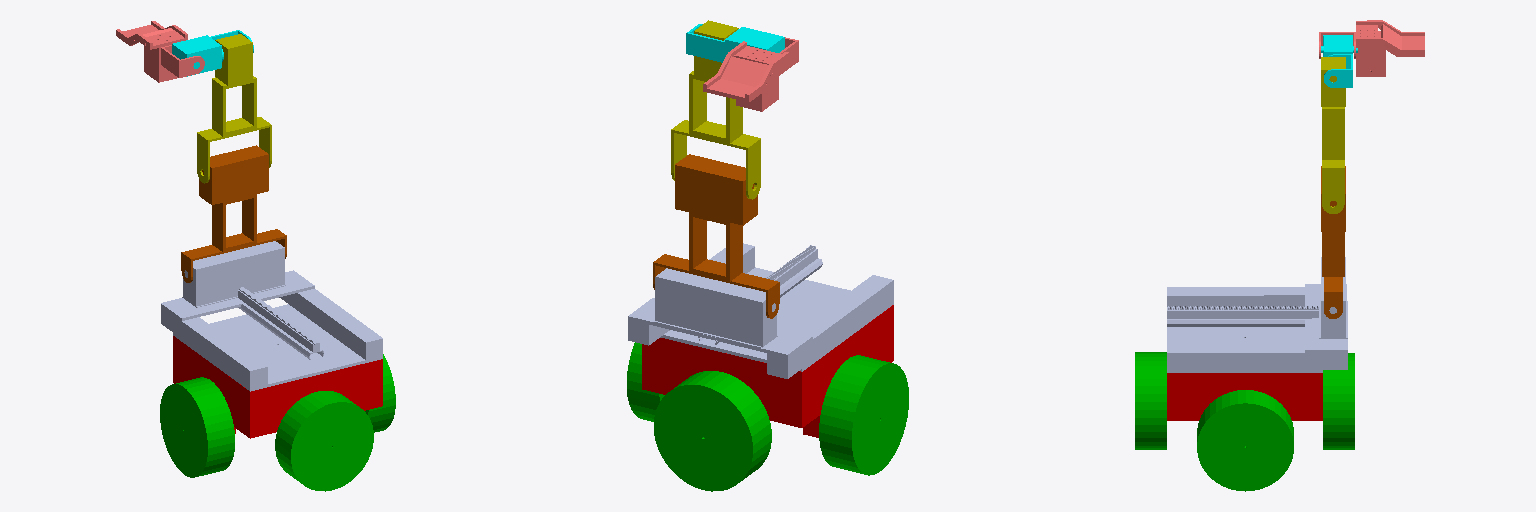
URDF robot description (larc_robot_description):
<?xml version="1.0" encoding="utf-8"?>

<robot name="larc_robot_description">

  <link name="base_link">
    <inertial>
      <origin
        xyz="-0.0007009 0.001235 0.10504"
        rpy="0 0 0" />
      <mass
        value="2.889" />
      <inertia
        ixx="0.01011"
        ixy="1.2009E-09"
        ixz="6.926E-10"
        iyy="0.010102"
        iyz="1.4387E-09"
        izz="0.018102" />
    </inertial>
    <visual>
      <origin
        xyz="0 0 0"
        rpy="0 0 0" />
      <geometry>
        <mesh
          filename="package://larc_robot_description/meshes/base_link.STL" />
      </geometry>
      <material
        name="">
        <color
          rgba="0.90588 0 0 1" />
      </material>
    </visual>
    <collision>
      <origin
        xyz="0 0 0"
        rpy="0 0 0" />
      <geometry>
        <mesh
          filename="package://larc_robot_description/meshes/base_link.STL" />
      </geometry>
    </collision>
  </link>

  <link name="link_wheel_1">
    <inertial>
      <origin
        xyz="0.020161 -0.00045762 -0.0013655"
        rpy="0 0 0" />
      <mass
        value="0.50286" />
      <inertia
        ixx="0.00098271"
        ixy="1.166E-17"
        ixz="-7.3594E-18"
        iyy="0.00056179"
        iyz="-4.1613E-20"
        izz="0.00056179" />
    </inertial>
    <visual>
      <origin
        xyz="0 0 0"
        rpy="0 0 0" />
      <geometry>
        <mesh
          filename="package://larc_robot_description/meshes/link_wheel_1.STL" />
      </geometry>
      <material
        name="">
        <color
          rgba="0 0.75294 0 1" />
      </material>
    </visual>
    <collision>
      <origin
        xyz="0 0 0"
        rpy="0 0 0" />
      <geometry>
        <mesh
          filename="package://larc_robot_description/meshes/link_wheel_1.STL" />
      </geometry>
    </collision>
  </link>
  <joint name="wheel1" type="continuous">
    <origin
      xyz="-0.14101 0.00042922 0.056131"
      rpy="0 0 0" />
    <parent
      link="base_link" />
    <child
      link="link_wheel_1" />
    <axis
      xyz="1 0 0" />
    <safety_controller
      k_velocity="0" />
  </joint>

  <link name="link_wheel_2">
    <inertial>
      <origin
        xyz="-0.000339407879815295 0.02004238131964 -0.00136551806008206"
        rpy="0 0 0" />
      <mass
        value="0.502855886504197" />
      <inertia
        ixx="0.000561794786868209"
        ixy="7.51895569517464E-20"
        ixz="-2.59772159407109E-34"
        iyy="0.000982706116200826"
        iyz="-1.45822039942642E-18"
        izz="0.000561794786868209" />
    </inertial>
    <visual>
      <origin
        xyz="0 0 0"
        rpy="0 0 0" />
      <geometry>
        <mesh
          filename="package://larc_robot_description/meshes/link_wheel_2.STL" />
      </geometry>
      <material
        name="">
        <color
          rgba="0 0.752941176470588 0 1" />
      </material>
    </visual>
    <collision>
      <origin
        xyz="0 0 0"
        rpy="0 0 0" />
      <geometry>
        <mesh
          filename="package://larc_robot_description/meshes/link_wheel_2.STL" />
      </geometry>
    </collision>
  </link>
  <joint name="wheel2" type="continuous">
    <origin
      xyz="-6.8027E-05 -0.1411 0.057612"
      rpy="0 0 0" />
    <parent
      link="base_link" />
    <child
      link="link_wheel_2" />
    <axis
      xyz="0 1 0" />
    <safety_controller
      k_velocity="0" />
  </joint>

  <link name="link_wheel_3">
    <inertial>
      <origin
        xyz="0.0205 2.3384994028014E-14 6.93889390390723E-17"
        rpy="0 0 0" />
      <mass
        value="0.502855886504196" />
      <inertia
        ixx="0.000982706116200826"
        ixy="-7.51895569517464E-20"
        ixz="-1.51916017433259E-18"
        iyy="0.000561794786868209"
        iyz="-1.22627570677781E-34"
        izz="0.000561794786868209" />
    </inertial>
    <visual>
      <origin
        xyz="0 0 0"
        rpy="0 0 0" />
      <geometry>
        <mesh
          filename="package://larc_robot_description/meshes/link_wheel_3.STL" />
      </geometry>
      <material
        name="">
        <color
          rgba="0 0.752941176470588 0 1" />
      </material>
    </visual>
    <collision>
      <origin
        xyz="0 0 0"
        rpy="0 0 0" />
      <geometry>
        <mesh
          filename="package://larc_robot_description/meshes/link_wheel_3.STL" />
      </geometry>
    </collision>
  </link>
  <joint name="wheel3" type="continuous">
    <origin
      xyz="0.09965 0.0003109 0.0563"
      rpy="0 0 0" />
    <parent
      link="base_link" />
    <child
      link="link_wheel_3" />
    <axis
      xyz="1 0 0" />
    <safety_controller
      k_velocity="0" />
  </joint>

  <link name="link_wheel_4">
    <inertial>
      <origin
        xyz="-1.12941340307815E-14 0.020500000000011 -2.98580604685128E-14"
        rpy="0 0 0" />
      <mass
        value="0.502855886504197" />
      <inertia
        ixx="0.000561794786868209"
        ixy="9.11607153056694E-37"
        ixz="-5.89348963826831E-37"
        iyy="0.000982706116200826"
        iyz="-1.45822039942642E-18"
        izz="0.000561794786868209" />
    </inertial>
    <visual>
      <origin
        xyz="0 0 0"
        rpy="0 0 0" />
      <geometry>
        <mesh
          filename="package://larc_robot_description/meshes/link_wheel_4.STL" />
      </geometry>
      <material
        name="">
        <color
          rgba="0 0.752941176470588 0 1" />
      </material>
    </visual>
    <collision>
      <origin
        xyz="0 0 0"
        rpy="0 0 0" />
      <geometry>
        <mesh
          filename="package://larc_robot_description/meshes/link_wheel_4.STL" />
      </geometry>
    </collision>
  </link>
  <joint name="wheel4" type="continuous">
    <origin
      xyz="-0.00038217 0.099439 0.056246"
      rpy="0 0 0" />
    <parent
      link="base_link" />
    <child
      link="link_wheel_4" />
    <axis
      xyz="0 1 0" />
    <safety_controller
      k_velocity="0" />
  </joint>

  <link name="link_rotating_base">
    <inertial>
      <origin
        xyz="2.59666420310278E-17 -3.25260651745651E-18 -0.00199999999999997"
        rpy="0 0 0" />
      <mass
        value="0.159971725666118" />
      <inertia
        ixx="0.000533546613063244"
        ixy="5.37667397666411E-21"
        ixz="-4.03058545088596E-21"
        iyy="0.000533546613063244"
        iyz="-8.21553363704842E-21"
        izz="0.00106666663485805" />
    </inertial>
    <visual>
      <origin
        xyz="0 0 0"
        rpy="0 0 0" />
      <geometry>
        <mesh
          filename="package://larc_robot_description/meshes/link_rotating_base.STL" />
      </geometry>
      <material
        name="">
        <color
          rgba="0.792156862745098 0.819607843137255 0.933333333333333 1" />
      </material>
    </visual>
    <collision>
      <origin
        xyz="0 0 0"
        rpy="0 0 0" />
      <geometry>
        <mesh
          filename="package://larc_robot_description/meshes/link_rotating_base.STL" />
      </geometry>
    </collision>
  </link>
  <joint name="rotating_base" type="revolute">
    <origin
      xyz="-0.0003502 -0.00056066 0.14621"
      rpy="0 0 0" />
    <parent
      link="base_link" />
    <child
      link="link_rotating_base" />
    <axis
      xyz="0 0 1" />
    <limit
      lower="-3.14"
      upper="3.14"
      effort="3.1"
      velocity="7" />
    <safety_controller
      k_velocity="0" />
  </joint>

  <link name="link_zipper">
    <inertial>
      <origin
        xyz="0.0997852492160236 -0.0418712470067769 0.00454384995334384"
        rpy="0 0 0" />
      <mass
        value="0.618526009233702" />
      <inertia
        ixx="0.00197333990930959"
        ixy="4.10075659751431E-06"
        ixz="2.16435070120201E-07"
        iyy="0.000606064173307816"
        iyz="-7.21645078614296E-05"
        izz="0.00240018329433446" />
    </inertial>
    <visual>
      <origin
        xyz="0 0 0"
        rpy="0 0 0" />
      <geometry>
        <mesh
          filename="package://larc_robot_description/meshes/link_zipper.STL" />
      </geometry>
      <material
        name="">
        <color
          rgba="0.792156862745098 0.819607843137255 0.933333333333333 1" />
      </material>
    </visual>
    <collision>
      <origin
        xyz="0 0 0"
        rpy="0 0 0" />
      <geometry>
        <mesh
          filename="package://larc_robot_description/meshes/link_zipper.STL" />
      </geometry>
    </collision>
  </link>
  <joint name="zipper" type="prismatic">
    <origin
      xyz="-0.09996 0.10016 0.026666"
      rpy="0 0 0" />
    <parent
      link="link_rotating_base" />
    <child
      link="link_zipper" />
    <axis
      xyz="0 1 0" />
    <limit
      lower="0.0"
      upper="0.16"
      effort="3.1"
      velocity="7" />
    <safety_controller
      k_velocity="0" />
  </joint>

  <link name="link_shoulder">
    <inertial>
      <origin
        xyz="5.84384970969687E-17 2.77555756156289E-17 0.105726024491764"
        rpy="0 0 0" />
      <mass
        value="0.194191541923691" />
      <inertia
        ixx="0.000301442784330269"
        ixy="-2.11758236813575E-20"
        ixz="-3.39724482279049E-20"
        iyy="0.000429950110550485"
        iyz="-4.34462320805404E-20"
        izz="0.000159590805283899" />
    </inertial>
    <visual>
      <origin
        xyz="0 0 0"
        rpy="0 0 0" />
      <geometry>
        <mesh
          filename="package://larc_robot_description/meshes/link_shoulder.STL" />
      </geometry>
      <material
        name="">
        <color
          rgba="0.729411764705882 0.356862745098039 0.0235294117647059 1" />
      </material>
    </visual>
    <collision>
      <origin
        xyz="0 0 0"
        rpy="0 0 0" />
      <geometry>
        <mesh
          filename="package://larc_robot_description/meshes/link_shoulder.STL" />
      </geometry>
    </collision>
  </link>
  <joint name="shoulder" type="revolute">
    <origin
      xyz="0.09962 0.013292 0.045134"
      rpy="0 0 0.0029992" />
    <parent
      link="link_zipper" />
    <child
      link="link_shoulder" />
    <axis
      xyz="1 0 0" />
    <limit
      lower="-2.6"
      upper="2.6"
      effort="3.1"
      velocity="7" />
    <safety_controller
      k_velocity="0" />
  </joint>

  <link name="link_elbow">
    <inertial>
      <origin
        xyz="-0.00150000000000004 6.93889390390723E-17 0.114437734633691"
        rpy="0 0 0" />
      <mass
        value="0.116156099382592" />
      <inertia
        ixx="0.000282205692339256"
        ixy="2.75285707857648E-21"
        ixz="1.06157121423655E-19"
        iyy="0.000321992012176196"
        iyz="3.41885999911415E-20"
        izz="5.79537330340457E-05" />
    </inertial>
    <visual>
      <origin
        xyz="0 0 0"
        rpy="0 0 0" />
      <geometry>
        <mesh
          filename="package://larc_robot_description/meshes/link_elbow.STL" />
      </geometry>
      <material
        name="">
        <color
          rgba="0.752941176470588 0.752941176470588 0 1" />
      </material>
    </visual>
    <collision>
      <origin
        xyz="0 0 0"
        rpy="0 0 0" />
      <geometry>
        <mesh
          filename="package://larc_robot_description/meshes/link_elbow.STL" />
      </geometry>
    </collision>
  </link>
  <joint name="elbow" type="revolute">
    <origin
      xyz="0.0015 0 0.1395"
      rpy="0 0 0" />
    <parent
      link="link_shoulder" />
    <child
      link="link_elbow" />
    <axis
      xyz="1 0 0" />
    <limit
      lower="-2.6"
      upper="2.6"
      effort="3.1"
      velocity="7" />
    <safety_controller
      k_velocity="0" />
  </joint>

  <link name="link_wrist_x">
    <inertial>
      <origin
        xyz="0.0462179712457425 -3.33066907387547E-16 0.00757600236130149"
        rpy="0 0 0" />
      <mass
        value="0.0734418604544087" />
      <inertia
        ixx="1.56551731707426E-05"
        ixy="-3.00186718951297E-21"
        ixz="2.96747066068271E-06"
        iyy="4.64159836533294E-05"
        iyz="-8.8758056104872E-22"
        izz="4.26152498612371E-05" />
    </inertial>
    <visual>
      <origin
        xyz="0 0 0"
        rpy="0 0 0" />
      <geometry>
        <mesh
          filename="package://larc_robot_description/meshes/link_wrist_x.STL" />
      </geometry>
      <material
        name="">
        <color
          rgba="0 1 1 1" />
      </material>
    </visual>
    <collision>
      <origin
        xyz="0 0 0"
        rpy="0 0 0" />
      <geometry>
        <mesh
          filename="package://larc_robot_description/meshes/link_wrist_x.STL" />
      </geometry>
    </collision>
  </link>
  <joint name="wrist_x" type="revolute">
    <origin
      xyz="-0.0019382 6.8796E-05 0.1655"
      rpy="1.5708 0 3.1416" />
    <parent
      link="link_elbow" />
    <child
      link="link_wrist_x" />
    <axis
      xyz="1 0 0" />
    <limit
      lower="-2.6"
      upper="2.6"
      effort="3.1"
      velocity="7" />
    <safety_controller
      k_velocity="0" />
  </joint>

  <link name="link_wrist_y">
    <inertial>
      <origin
        xyz="-0.0131844541976823 0.00564526697642653 0.0457821049582453"
        rpy="0 0 0" />
      <mass
        value="0.0964347160248947" />
      <inertia
        ixx="2.89008345555284E-05"
        ixy="-9.30583763123157E-09"
        ixz="-7.6152167469258E-09"
        iyy="2.64426644877419E-05"
        iyz="-1.22309375219652E-06"
        izz="2.48637691086818E-05" />
    </inertial>
    <visual>
      <origin
        xyz="0 0 0"
        rpy="0 0 0" />
      <geometry>
        <mesh
          filename="package://larc_robot_description/meshes/link_wrist_y.STL" />
      </geometry>
      <material
        name="">
        <color
          rgba="1 0.501960784313725 0.501960784313725 1" />
      </material>
    </visual>
    <collision>
      <origin
        xyz="0 0 0"
        rpy="0 0 0" />
      <geometry>
        <mesh
          filename="package://larc_robot_description/meshes/link_wrist_y.STL" />
      </geometry>
    </collision>
  </link>
  <joint name="wrist_y" type="revolute">
    <origin
      xyz="0.066562 0 0.0066812"
      rpy="0 0 -3.1416" />
    <parent
      link="link_wrist_x" />
    <child
      link="link_wrist_y" />
    <axis
      xyz="0 0 1" />
    <limit
      lower="-2.6"
      upper="2.6"
      effort="3.1"
      velocity="7" />
    <safety_controller
      k_velocity="0" />
  </joint>

</robot>

--- Render facts (derived) ---
3 views of the same robot in one strip: view 1: azimuth 30°, elevation 25°; view 2: azimuth 150°, elevation 25°; view 3: azimuth 270°, elevation 25° (orthographic).
Model larc_robot_description with 11 links and 10 joints (5 revolute, 4 continuous, 1 prismatic), rooted at base_link, posed all joints at 0.
Visible links, largest first — view 1: link_zipper, link_wheel_2, base_link, link_wheel_1, link_shoulder, link_rotating_base, link_elbow, link_wrist_y, link_wrist_x, link_wheel_3; view 2: link_zipper, link_wheel_4, base_link, link_wheel_1, link_shoulder, link_elbow, link_wrist_y, link_rotating_base, link_wrist_x, link_wheel_3; view 3: link_zipper, link_wheel_3, base_link, link_elbow, link_wheel_2, link_wrist_y, link_rotating_base, link_wheel_4, link_shoulder, link_wrist_x.
Link boxes in pixels (box(x1,y1,x2,y2)): link_zipper: box(161, 241, 382, 388); link_wheel_2: box(275, 391, 373, 491); base_link: box(173, 336, 382, 438); link_wheel_1: box(160, 377, 234, 477); link_shoulder: box(181, 145, 286, 282); link_rotating_base: box(173, 304, 382, 391); link_elbow: box(197, 34, 271, 183); link_wrist_y: box(116, 21, 204, 82); link_wrist_x: box(172, 30, 253, 76); link_wheel_3: box(365, 354, 395, 432); link_zipper: box(628, 243, 893, 378); link_wheel_4: box(654, 371, 771, 491); base_link: box(642, 305, 893, 437); link_wheel_1: box(819, 355, 908, 475); link_shoulder: box(653, 154, 779, 318); link_elbow: box(671, 20, 760, 199); link_wrist_y: box(703, 37, 798, 111); link_rotating_base: box(660, 267, 893, 371); link_wrist_x: box(686, 24, 784, 62); link_wheel_3: box(627, 342, 664, 421); link_zipper: box(1167, 257, 1347, 370); link_wheel_3: box(1197, 390, 1293, 491); base_link: box(1167, 373, 1322, 420); link_elbow: box(1321, 57, 1345, 213); link_wheel_2: box(1135, 352, 1166, 449); link_wrist_y: box(1319, 20, 1424, 76); link_rotating_base: box(1167, 327, 1322, 372); link_wheel_4: box(1323, 353, 1354, 449); link_shoulder: box(1321, 166, 1345, 318); link_wrist_x: box(1321, 35, 1357, 87).
Size in the robot's own frame: 0.282 by 0.3722 by 0.5523 metres.
11 mesh visuals loaded from 11 distinct referenced files (11 binary STL).